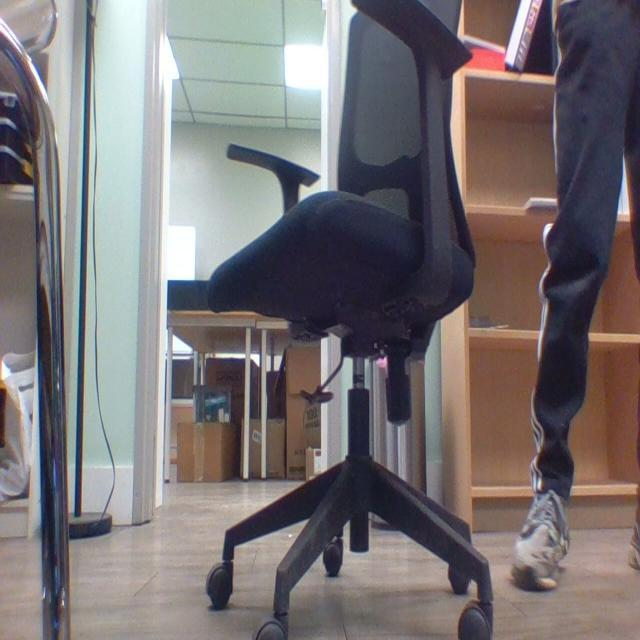chair: (189, 1, 499, 640)
